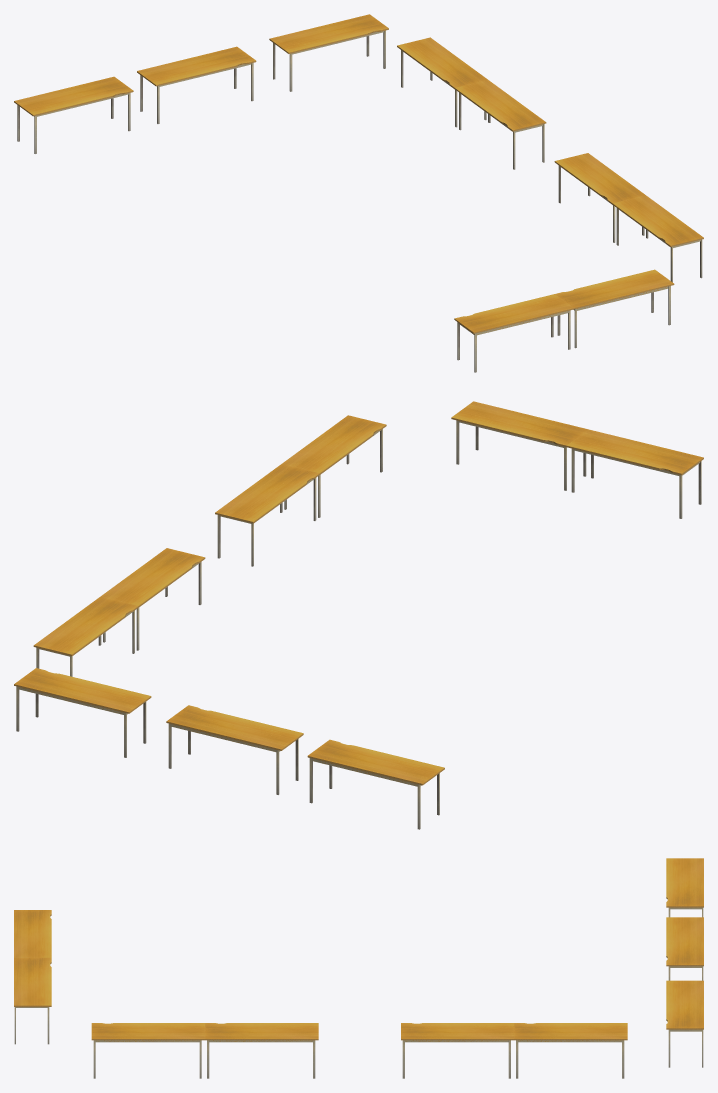
File: desks_bywall.dae
The picture shows the model from 3 angles, top to bottom: view 1: azimuth 30°, elevation 25°; view 2: azimuth 150°, elevation 25°; view 3: azimuth 270°, elevation 25°; orthographic projection. The views are drawn at different scales.
Parts seen in each view (by area): view 1: コンポーネント_1 (×9); view 2: コンポーネント_1 (×9); view 3: コンポーネント_1 (×9).
Part boxes in pixels (x1,y1,x2,y2): コンポーネント_1 (×9): (14, 14, 703, 332); コンポーネント_1 (×9): (14, 401, 703, 783); コンポーネント_1 (×9): (14, 858, 703, 1038).
Bounding box in the file's own units: 267 × 431 × 27.55.
Materials: 9 (7 with a texture image).
